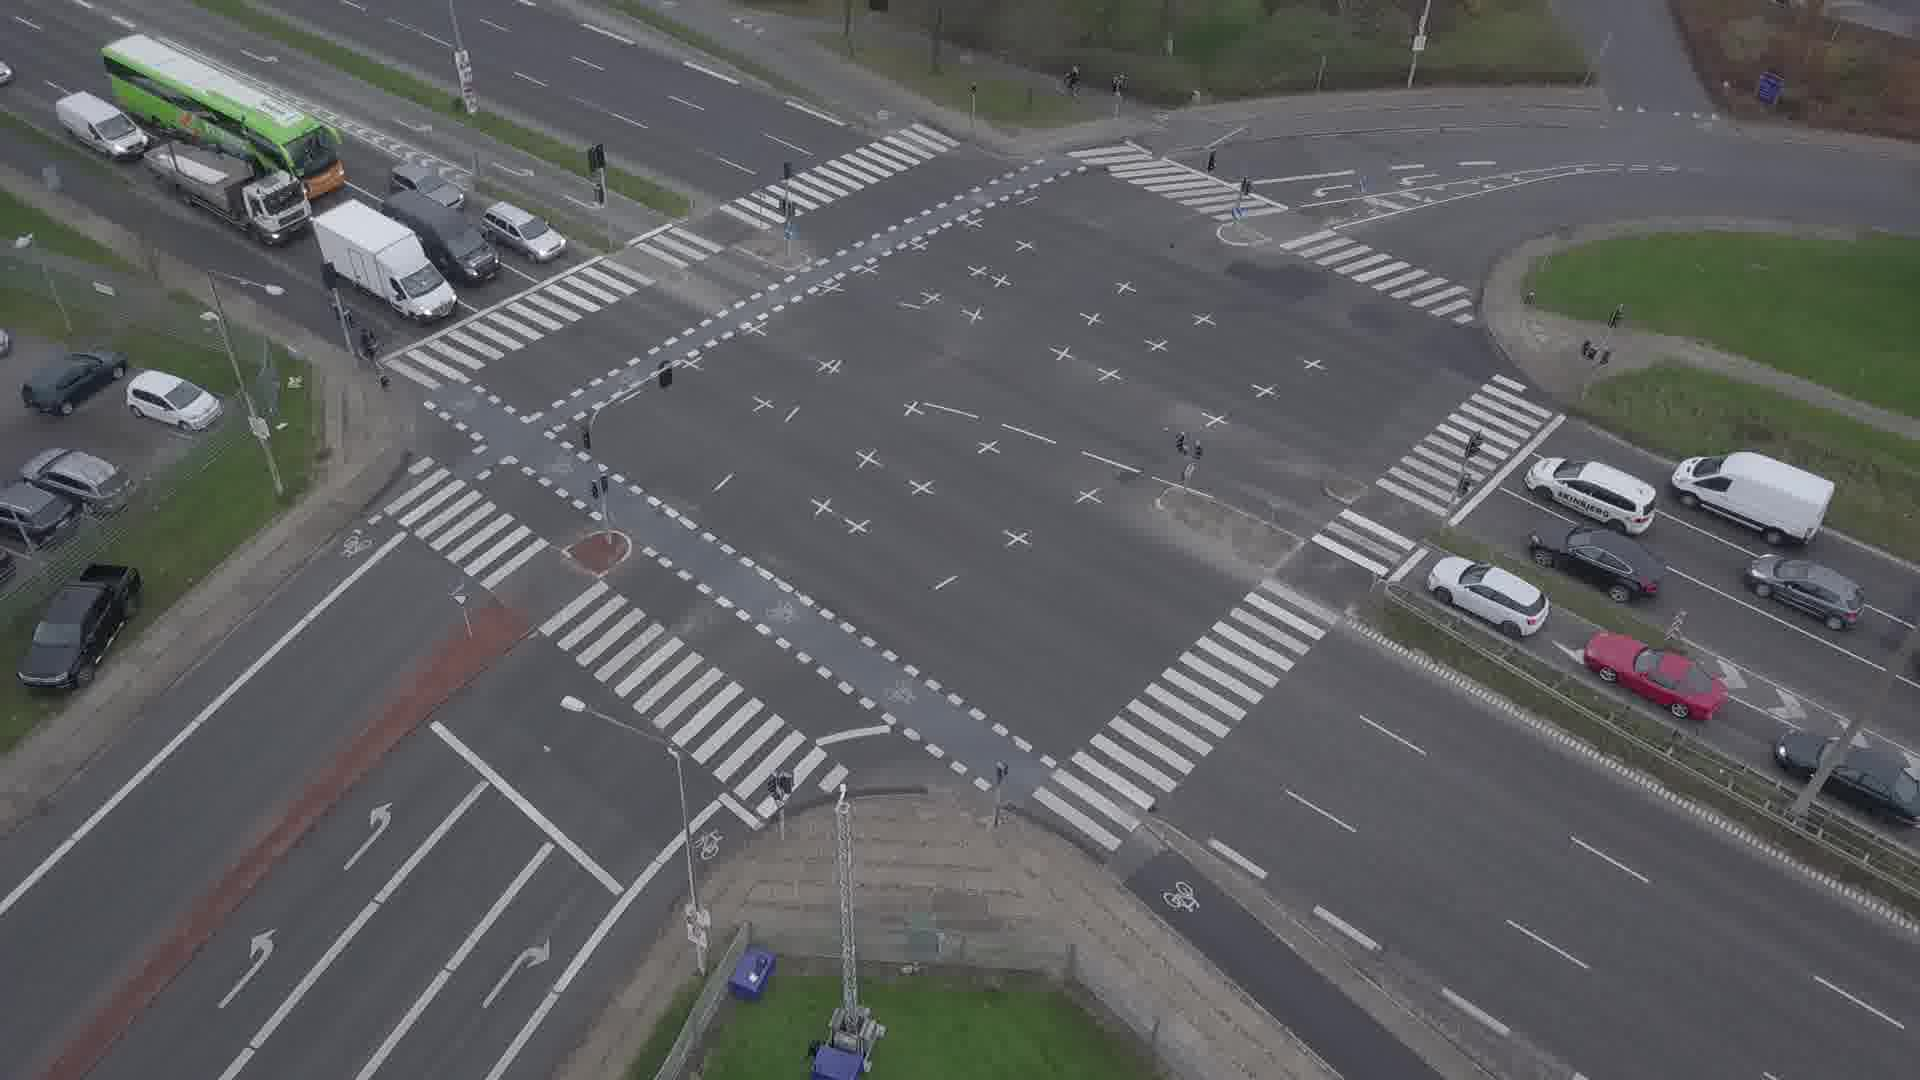bicycle: (1055, 63, 1092, 101), (358, 330, 384, 369)
bus: (100, 31, 346, 198)
car: (1776, 725, 1920, 817), (1585, 631, 1729, 721), (1526, 520, 1666, 602), (1523, 455, 1656, 534), (1428, 555, 1551, 636), (1744, 552, 1867, 630), (480, 201, 567, 264), (387, 160, 466, 211), (0, 56, 12, 87)
lorry: (143, 124, 313, 246), (310, 197, 458, 324), (1669, 451, 1835, 546), (379, 188, 497, 284), (54, 89, 149, 160)
